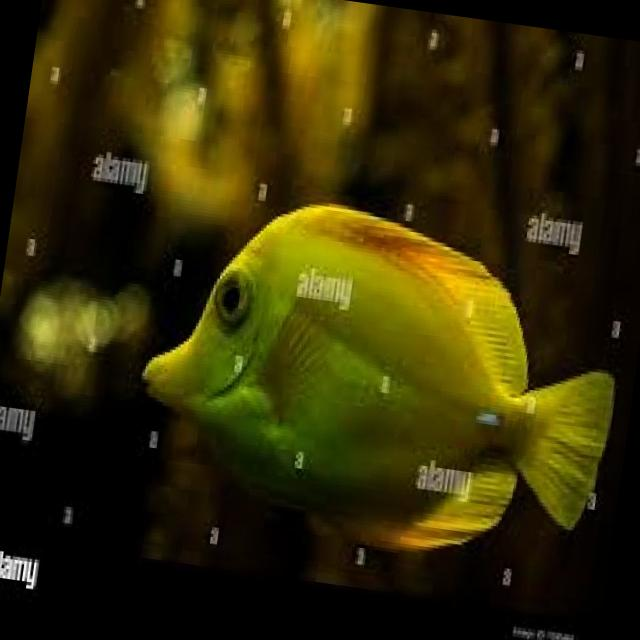YellowTang: (118, 166, 640, 578)
